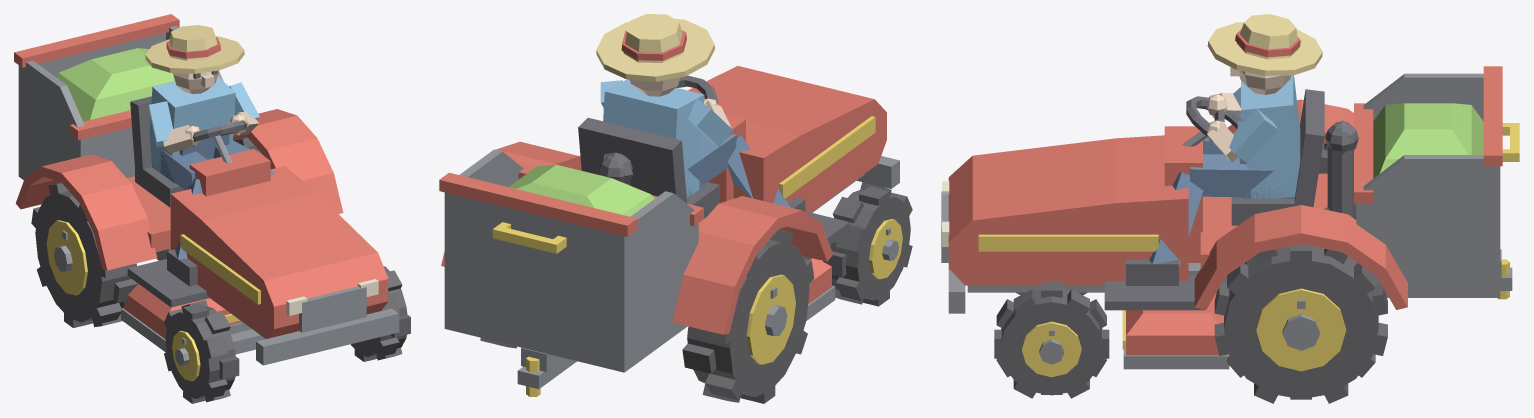
File: mower.glb
The picture shows the model from 3 angles, left to right: view 1: azimuth 30°, elevation 25°; view 2: azimuth 150°, elevation 25°; view 3: azimuth 270°, elevation 25°; orthographic projection. The views are drawn at different scales.
Visible parts, largest first — view 1: hood, fender_R, bag_side_R, grain, tyre_BR, fender_L, bag_lips, bumper, torso, tyre_FR, console, tread_FR (+29 smaller); view 2: bag_back, hood, fender_R, bag_side_R, tyre_BR, seat_back, torso, bag_lips, grain, hat_brim, tyre_FR, tread_FR (+24 smaller); view 3: hood, bag_side_L, tyre_BL, fender_L, grain, tyre_FL, torso, rim_BL, deck_shell, tread_BL, bag_lips, bag_side_R (+25 smaller).
Part boxes in pixels (x1,y1,x2,y2): hood: [170, 166, 388, 338]; fender_R: [15, 154, 157, 270]; bag_side_R: [18, 60, 87, 180]; grain: [55, 48, 174, 121]; tyre_BR: [35, 191, 136, 322]; fender_L: [233, 109, 343, 213]; bag_lips: [14, 14, 179, 140]; bumper: [256, 308, 399, 365]; torso: [149, 76, 235, 173]; tyre_FR: [165, 306, 235, 398]; console: [189, 149, 270, 196]; tread_FR: [164, 300, 239, 403]; bag_back: [453, 194, 615, 370]; hood: [688, 66, 886, 212]; fender_R: [672, 196, 832, 334]; bag_side_R: [616, 191, 698, 372]; tyre_BR: [687, 239, 809, 396]; seat_back: [578, 117, 686, 203]; torso: [603, 79, 704, 198]; bag_lips: [439, 162, 703, 236]; grain: [509, 164, 654, 216]; hat_brim: [596, 18, 714, 81]; tyre_FR: [830, 189, 910, 300]; tread_FR: [822, 182, 912, 306]; hood: [948, 135, 1188, 285]; bag_side_L: [1356, 155, 1500, 297]; tyre_BL: [1224, 246, 1378, 399]; fender_L: [1194, 205, 1407, 309]; grain: [1373, 103, 1483, 178]; tyre_FL: [1000, 288, 1103, 395]; torso: [1241, 75, 1300, 198]; rim_BL: [1256, 288, 1346, 371]; deck_shell: [1126, 293, 1226, 355]; tread_BL: [1214, 244, 1387, 403]; bag_lips: [1354, 66, 1502, 203]; bag_side_R: [1363, 73, 1483, 121].
Size of the model in its own units: 1.33 by 1.48 by 2.41.
